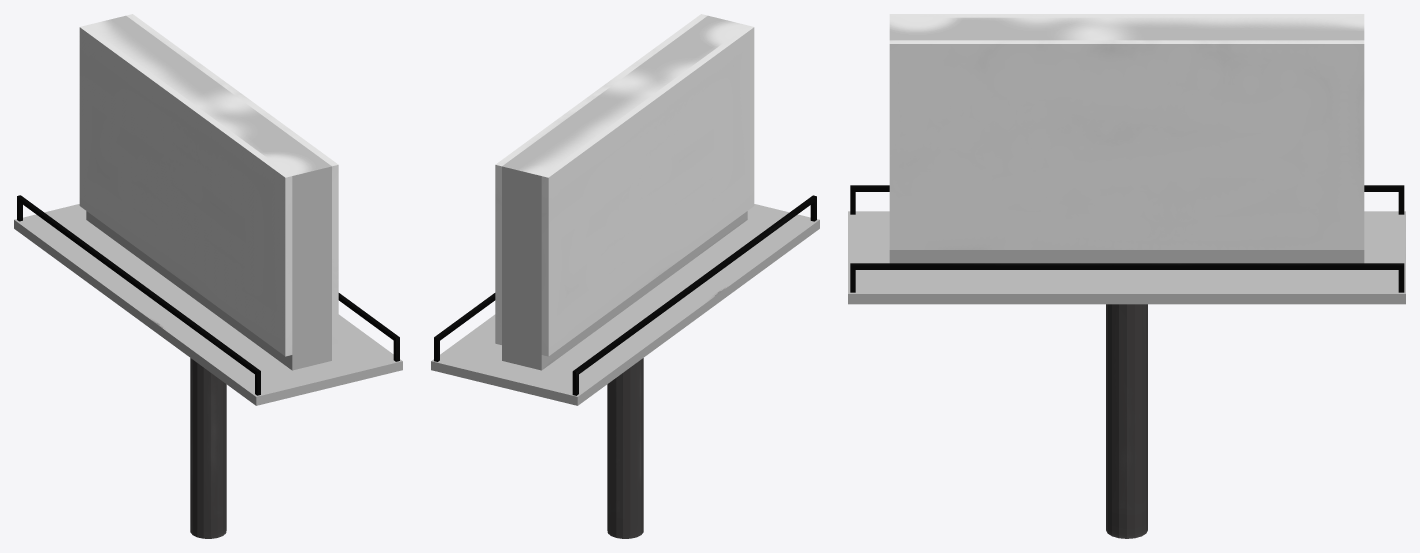
Rendered from billboard.glb.
The picture shows the model from 3 angles, left to right: view 1: azimuth 30°, elevation 25°; view 2: azimuth 150°, elevation 25°; view 3: azimuth 270°, elevation 25°; orthographic projection. The views are drawn at different scales.
Visible parts, largest first — view 1: Billboard; view 2: Billboard; view 3: Billboard.
Boxes of the visible parts, x1,y1,x2,y2 form: Billboard: [14, 14, 402, 538]; Billboard: [431, 14, 819, 538]; Billboard: [848, 14, 1405, 538].
Bounding box in the file's own units: 9.27 × 26.31 × 26.52.
1 material, 1 textured.
